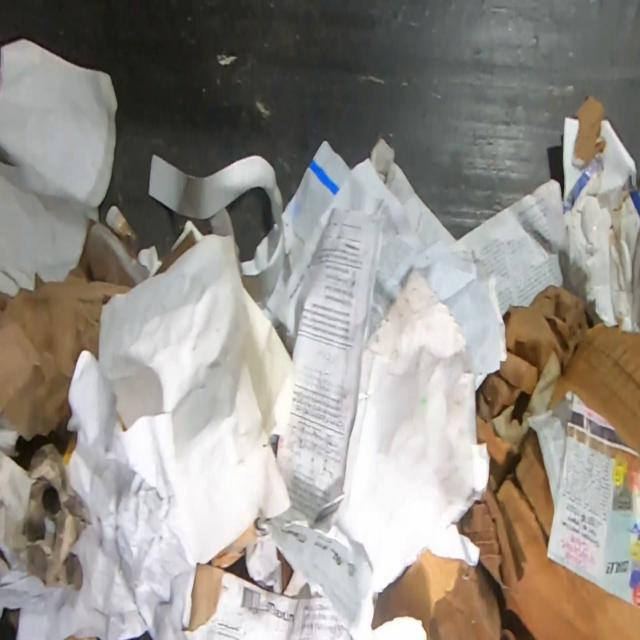cardboard: (458, 430, 640, 640), (477, 282, 598, 490), (561, 142, 640, 332), (371, 549, 517, 639), (549, 323, 640, 453), (571, 97, 606, 168), (189, 564, 225, 632)
